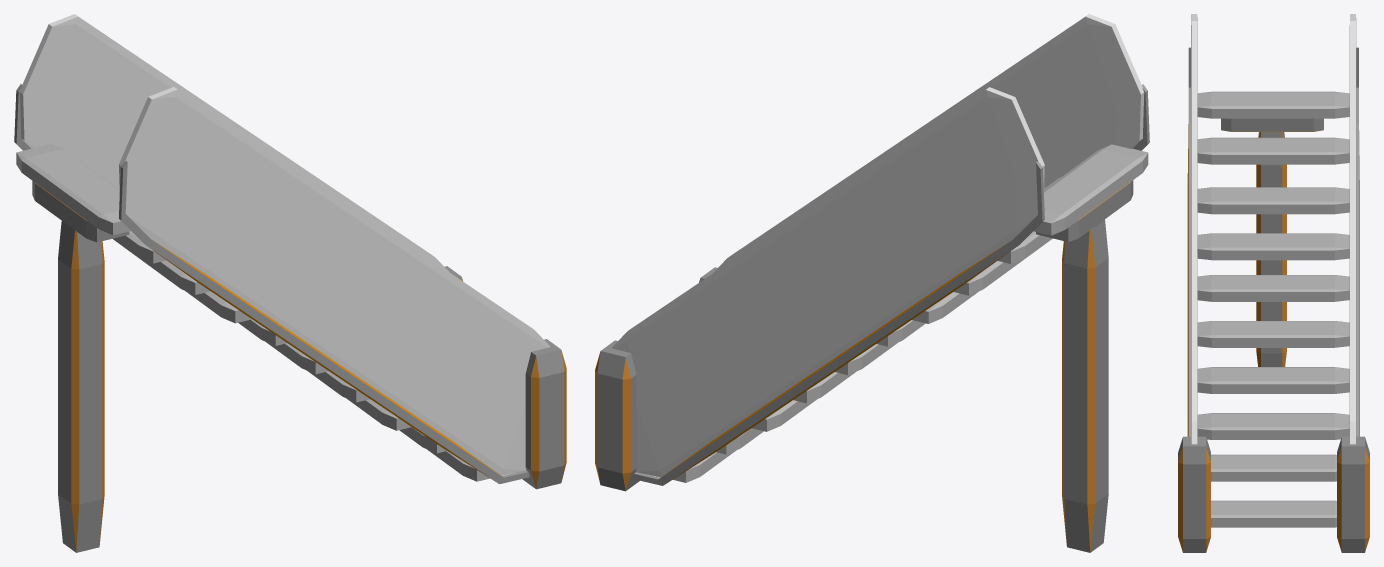
Rendered from stairs.fbx.
3 renders of one model, left to right at view 1: azimuth 30°, elevation 25°; view 2: azimuth 150°, elevation 25°; view 3: azimuth 270°, elevation 25°, orthographic. The views are drawn at different scales.
Visible parts, largest first — view 1: Cube.053; view 2: Cube.053; view 3: Cube.053.
Boxes of the visible parts, x1,y1,x2,y2 form: Cube.053: (14,14,566,552); Cube.053: (595,14,1149,552); Cube.053: (1178,14,1369,552).
Bounding box in the file's own units: 1205 × 1234 × 558.
